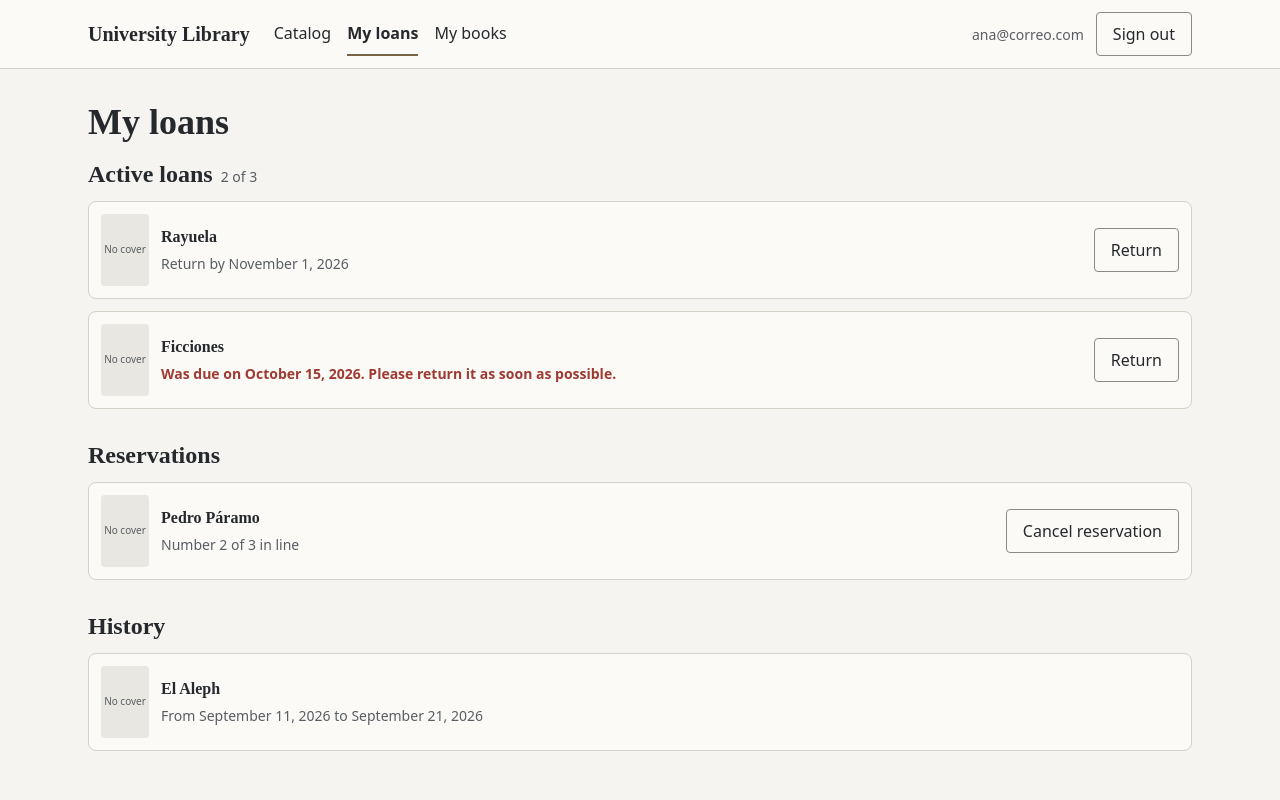
it: Mis préstamos (integración) › cancela una reserva
Click the button with aria-label "Cancel reservation for Pedro Páramo".
click(1092, 531)  # box [1006, 509, 1179, 553]
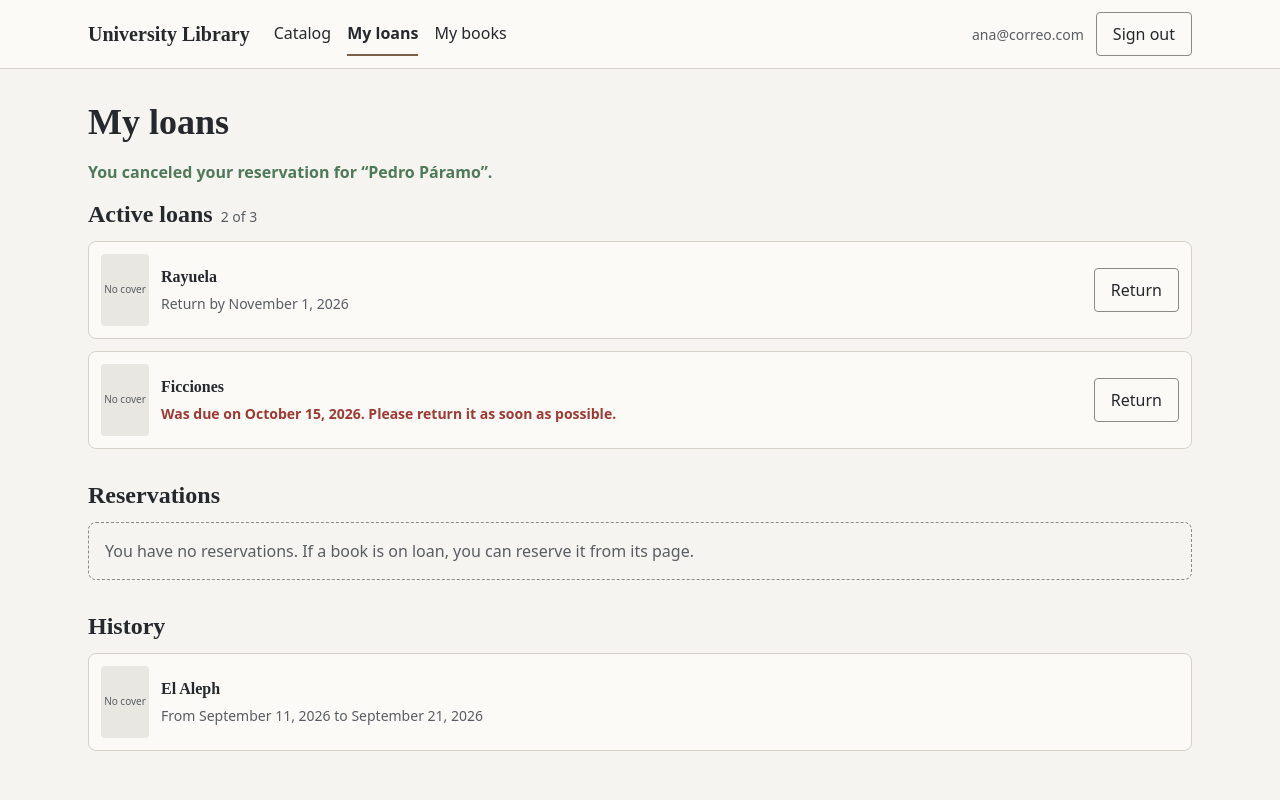
Expected: the text "You have no reservations" is shown, [105, 540, 694, 562]
